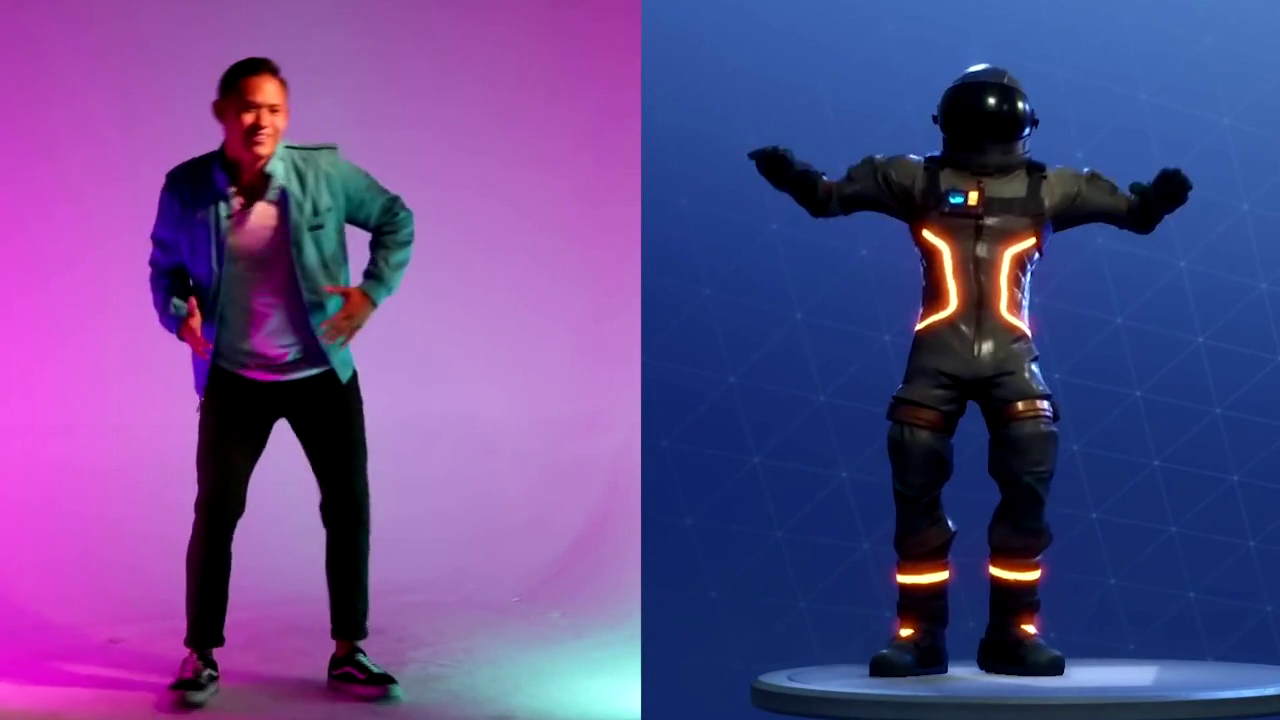Head: (188, 48, 291, 165)
Hip: (171, 354, 384, 432)
LeftAnkle: (309, 616, 431, 714)
LeftElbow: (342, 181, 437, 262)
LeftKnee: (285, 448, 393, 543)
LeftShoulder: (292, 129, 366, 208)
LeftWrist: (304, 275, 391, 347)
RightAnkle: (134, 612, 254, 714)
RightKnee: (166, 461, 258, 559)
RightShoulder: (145, 158, 231, 223)
RightWrist: (152, 285, 229, 356)
Torso: (180, 151, 355, 375)
